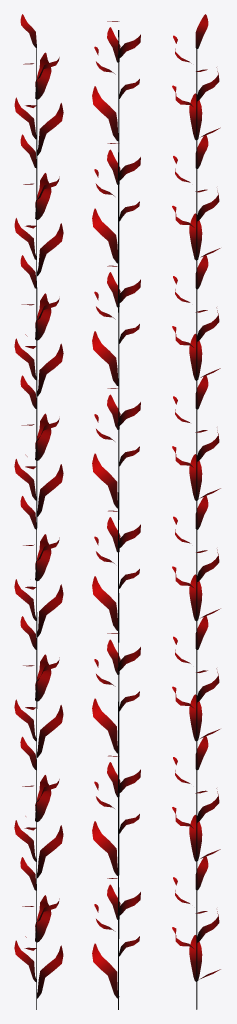
3 views of the same model, side by side, from view 1: azimuth 30°, elevation 25°; view 2: azimuth 150°, elevation 25°; view 3: azimuth 330°, elevation 25° (orthographic).
Visible parts, largest first — view 1: KELP_HP_002; view 2: KELP_HP_002; view 3: KELP_HP_002.
Part boxes in pixels (<box>): KELP_HP_002: <box>14,14,63,1009</box>; KELP_HP_002: <box>92,21,140,1009</box>; KELP_HP_002: <box>172,14,220,1009</box>.
Size of the model in its own units: 0.7929 by 16.59 by 0.6112.
